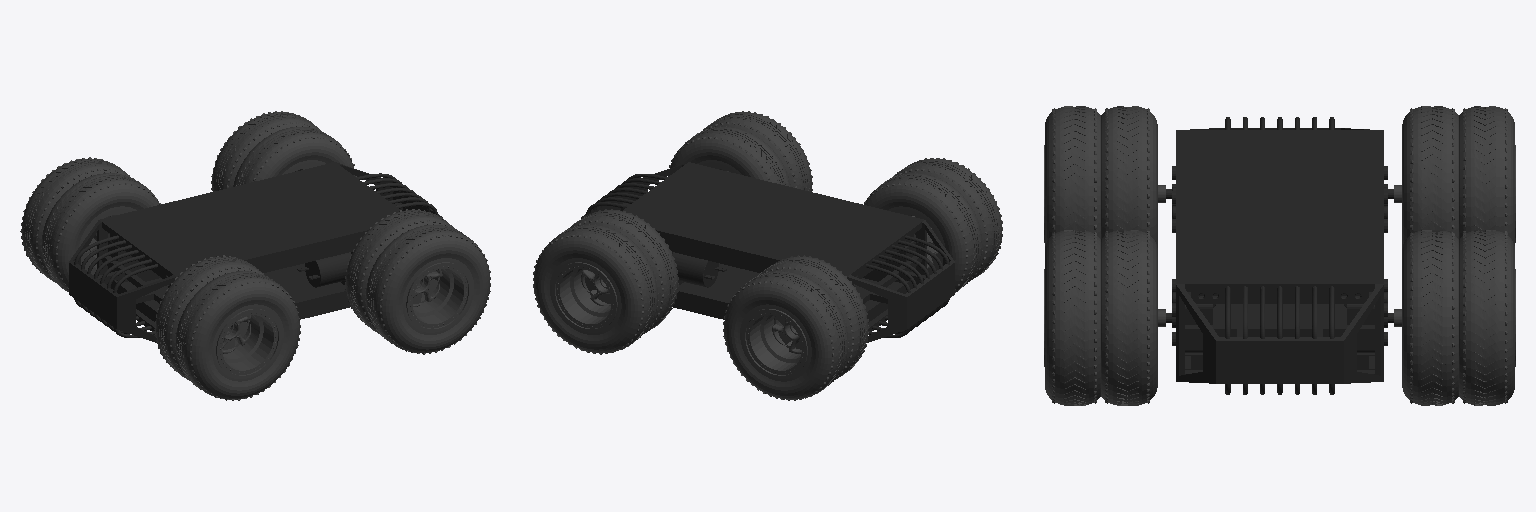
The robot description file, URDF, robot "FourWheelRobot10":
<?xml version="1.0" encoding="utf-8"?>
<!-- This URDF was automatically created by SolidWorks to URDF Exporter! Originally created by [author] ([email redacted]) 
     Commit Version: 1.6.0-4-g7f85cfe  Build Version: 1.6.7995.38578
     For more information, please see http://wiki.ros.org/sw_urdf_exporter -->
<robot
  name="FourWheelRobot10">
  <link
    name="base_link">
    <inertial>
      <origin
        xyz="0.00026004 4.1672E-09 0.018516"
        rpy="0 0 0" />
      <mass
        value="2.5" />
      <inertia
        ixx="3.2767E-05"
        ixy="-1.3847E-13"
        ixz="1.4164E-21"
        iyy="8.0608E-05"
        iyz="-4.7145E-24"
        izz="0.00010799" />
    </inertial>
    <visual>
      <origin
        xyz="0 0 0"
        rpy="0 0 0" />
      <geometry>
        <mesh
          filename="package://FourWheelRobot10/meshes/base_link.STL" />
      </geometry>
      <material
        name="">
        <color
          rgba="0.2 0.2 0.2 1" />
      </material>
    </visual>
    <collision>
      <origin
        xyz="0 0 0"
        rpy="0 0 0" />
      <geometry>
        <mesh
          filename="package://FourWheelRobot10/meshes/base_link.STL" />
      </geometry>
    </collision>
  </link>
  <link
    name="link_1">
    <inertial>
      <origin
        xyz="8.1037E-06 -1.9918E-06 -0.0077661"
        rpy="0 0 0" />
      <mass
        value="0.5" />
      <inertia
        ixx="5.9082E-06"
        ixy="2.7993E-10"
        ixz="1.0863E-10"
        iyy="5.9095E-06"
        iyz="-7.3757E-12"
        izz="8.9148E-06" />
    </inertial>
    <visual>
      <origin
        xyz="0 0 0"
        rpy="0 0 0" />
      <geometry>
        <mesh
          filename="package://FourWheelRobot10/meshes/link_1.STL" />
      </geometry>
      <material
        name="">
        <color
          rgba="0.29804 0.29804 0.29804 1" />
      </material>
    </visual>
    <collision>
      <origin
        xyz="0 0 0"
        rpy="0 0 0" />
      <geometry>
        <mesh
          filename="package://FourWheelRobot10/meshes/link_1.STL" />
      </geometry>
    </collision>
  </link>
  <joint
    name="joint_1"
    type="continuous">
    <origin
      xyz="-0.0506999999999997 -0.0538199958328328 0.0186"
      rpy="1.5707963267949 0 3.14159265358979" />
    <parent
      link="base_link" />
    <child
      link="link_1" />
    <axis
      xyz="0 0 1" />
  </joint>
  <link
    name="link_2">
    <inertial>
      <origin
        xyz="3.5739E-06 -8.7338E-06 -0.0077661"
        rpy="0 0 0" />
      <mass
        value="0.5" />
      <inertia
        ixx="5.9094E-06"
        ixy="4.0736E-10"
        ixz="-2.8613E-11"
        iyy="5.9083E-06"
        iyz="-5.3573E-11"
        izz="8.9148E-06" />
    </inertial>
    <visual>
      <origin
        xyz="0 0 0"
        rpy="0 0 0" />
      <geometry>
        <mesh
          filename="package://FourWheelRobot10/meshes/link_2.STL" />
      </geometry>
      <material
        name="">
        <color
          rgba="0.29804 0.29804 0.29804 1" />
      </material>
    </visual>
    <collision>
      <origin
        xyz="0 0 0"
        rpy="0 0 0" />
      <geometry>
        <mesh
          filename="package://FourWheelRobot10/meshes/link_2.STL" />
      </geometry>
    </collision>
  </link>
  <joint
    name="joint_2"
    type="continuous">
    <origin
      xyz="0.0507000000000003 -0.0538199958328328 0.0186"
      rpy="1.5707963267949 0 3.14159265358979" />
    <parent
      link="base_link" />
    <child
      link="link_2" />
    <axis
      xyz="0 0 1" />
  </joint>
  <link
    name="link_3">
    <inertial>
      <origin
        xyz="-8.1037E-06 -1.9918E-06 0.0077661"
        rpy="0 0 0" />
      <mass
        value="0.5" />
      <inertia
        ixx="5.9082E-06"
        ixy="-2.7993E-10"
        ixz="1.0863E-10"
        iyy="5.9095E-06"
        iyz="7.3757E-12"
        izz="8.9148E-06" />
    </inertial>
    <visual>
      <origin
        xyz="0 0 0"
        rpy="0 0 0" />
      <geometry>
        <mesh
          filename="package://FourWheelRobot10/meshes/link_3.STL" />
      </geometry>
      <material
        name="">
        <color
          rgba="0.29804 0.29804 0.29804 1" />
      </material>
    </visual>
    <collision>
      <origin
        xyz="0 0 0"
        rpy="0 0 0" />
      <geometry>
        <mesh
          filename="package://FourWheelRobot10/meshes/link_3.STL" />
      </geometry>
    </collision>
  </link>
  <joint
    name="joint_3"
    type="continuous">
    <origin
      xyz="0.0507000000000003 0.0538200041671672 0.0186"
      rpy="1.5707963267949 0 3.14159265358979" />
    <parent
      link="base_link" />
    <child
      link="link_3" />
    <axis
      xyz="0 0 -1" />
  </joint>
  <link
    name="link_4">
    <inertial>
      <origin
        xyz="1.9112E-06 8.7338E-06 0.00056606"
        rpy="0 0 0" />
      <mass
        value="0.5" />
      <inertia
        ixx="5.9094E-06"
        ixy="-4.0736E-10"
        ixz="-7.3441E-11"
        iyy="5.9083E-06"
        iyz="-5.3573E-11"
        izz="8.9148E-06" />
    </inertial>
    <visual>
      <origin
        xyz="0 0 0"
        rpy="0 0 0" />
      <geometry>
        <mesh
          filename="package://FourWheelRobot10/meshes/link_4.STL" />
      </geometry>
      <material
        name="">
        <color
          rgba="0.29804 0.29804 0.29804 1" />
      </material>
    </visual>
    <collision>
      <origin
        xyz="0 0 0"
        rpy="0 0 0" />
      <geometry>
        <mesh
          filename="package://FourWheelRobot10/meshes/link_4.STL" />
      </geometry>
    </collision>
  </link>
  <joint
    name="joint_4"
    type="continuous">
    <origin
      xyz="-0.0506999999999997 0.0610200041671672 0.0186"
      rpy="1.5707963267949 0 3.14159265358979" />
    <parent
      link="base_link" />
    <child
      link="link_4" />
    <axis
      xyz="0 0 -1" />
  </joint>
</robot>

--- Facts derived from the render (not from the file) ---
Views: 3 orthographic renders of the robot side by side, from view 1: azimuth 30°, elevation 25°; view 2: azimuth 150°, elevation 25°; view 3: azimuth 270°, elevation 25°.
Model FourWheelRobot10 with 5 links and 4 joints (4 continuous), rooted at base_link, posed all joints at 0.
Visible links, largest first — view 1: base_link, link_2, link_1, link_4, link_3; view 2: base_link, link_3, link_4, link_1, link_2; view 3: base_link, link_2, link_3, link_1, link_4.
Boxes of the visible links, x1,y1,x2,y2 form: base_link: (69,162,442,342); link_2: (345,209,490,354); link_1: (154,255,300,400); link_4: (20,157,160,291); link_3: (211,111,356,191); base_link: (581,162,954,342); link_3: (533,209,678,354); link_4: (723,255,869,400); link_1: (864,158,1002,292); link_2: (668,111,812,191); base_link: (1166,117,1393,394); link_2: (1044,230,1165,405); link_3: (1394,230,1515,405); link_1: (1044,106,1165,247); link_4: (1394,106,1515,247).
Bounding box of the posed robot: 0.174 × 0.1628 × 0.0608 m (x, y, z).
Meshes: 5 distinct files referenced, 5 mesh visuals loaded (5 binary STL).